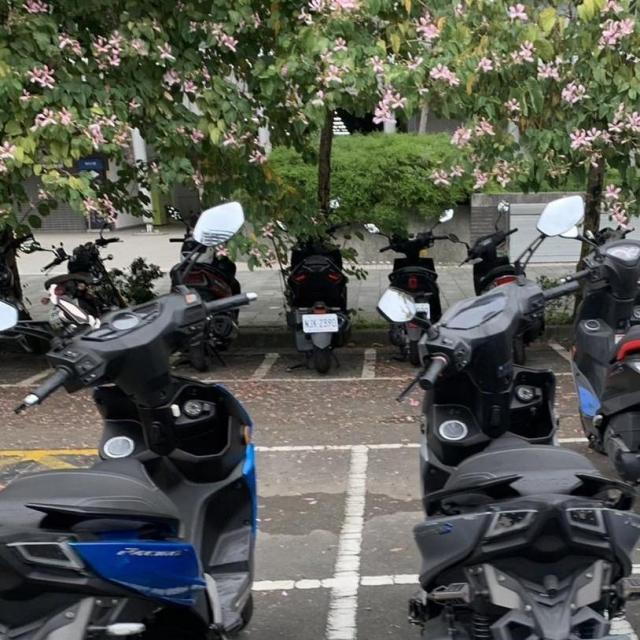W: (297, 308, 340, 335)
